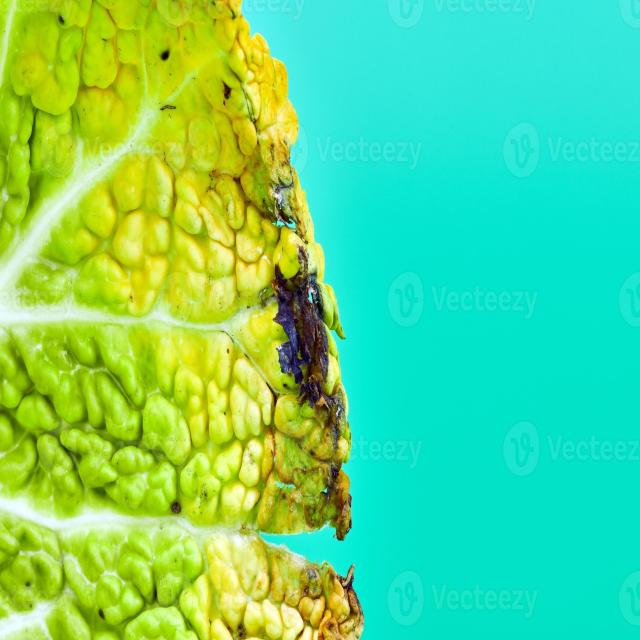rotten cabbage: (126, 47, 410, 640)
